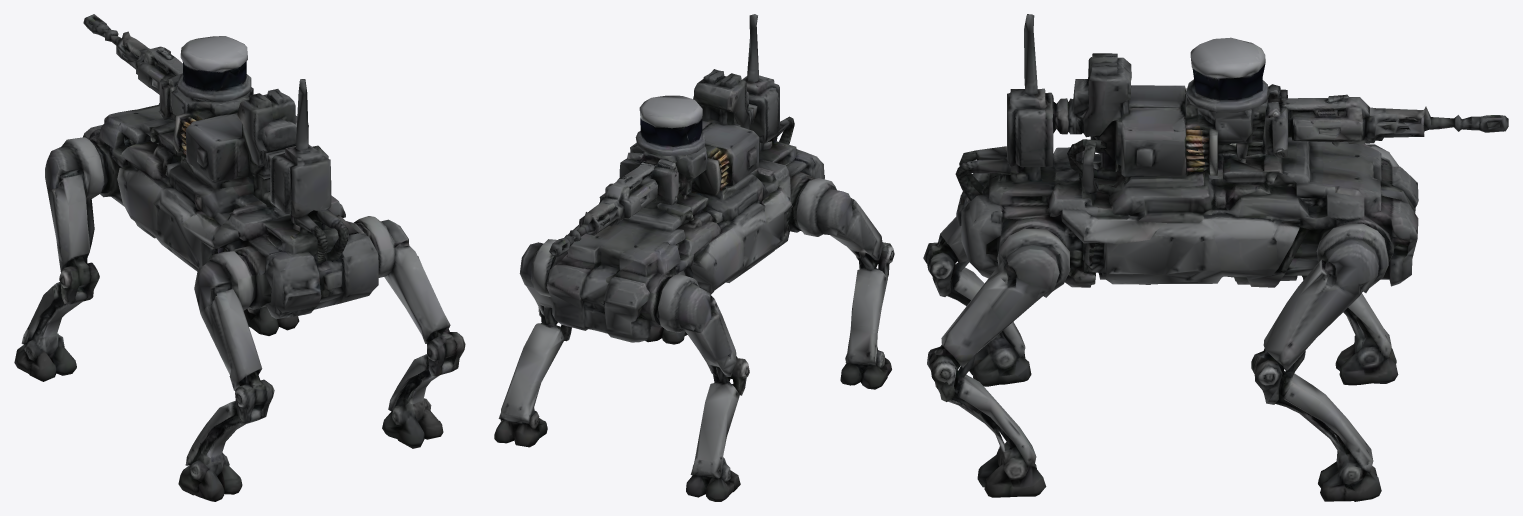
The model's file is hound.glb.
3 renders of one model, left to right at view 1: azimuth 30°, elevation 25°; view 2: azimuth 150°, elevation 25°; view 3: azimuth 270°, elevation 25°, orthographic. The views are drawn at different scales.
Visible parts, largest first — view 1: tripo_node_c6b04483-a5be-4613-b525-95c5963fcaa9; view 2: tripo_node_c6b04483-a5be-4613-b525-95c5963fcaa9; view 3: tripo_node_c6b04483-a5be-4613-b525-95c5963fcaa9.
Boxes of the visible parts, x1,y1,x2,y2 form: tripo_node_c6b04483-a5be-4613-b525-95c5963fcaa9: (14, 14, 465, 501); tripo_node_c6b04483-a5be-4613-b525-95c5963fcaa9: (494, 14, 894, 501); tripo_node_c6b04483-a5be-4613-b525-95c5963fcaa9: (923, 14, 1508, 501).
Bounding box in the file's own units: 0.6136 × 0.85 × 1.07.
1 material, 1 textured.
